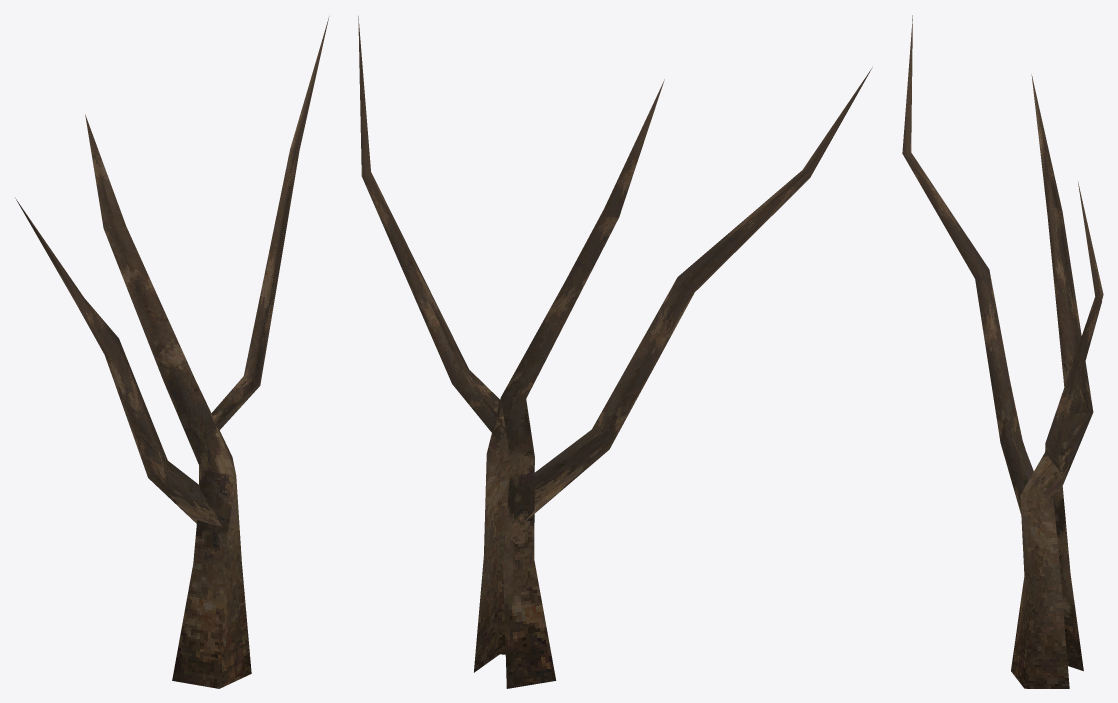
The model's file is stage-maya-p4-74.glb.
3 renders of one model, left to right at view 1: azimuth 30°, elevation 25°; view 2: azimuth 150°, elevation 25°; view 3: azimuth 270°, elevation 25°, orthographic. The views are drawn at different scales.
Bounding box in the file's own units: 13.7 × 19.74 × 6.46.
1 material, 1 textured.
